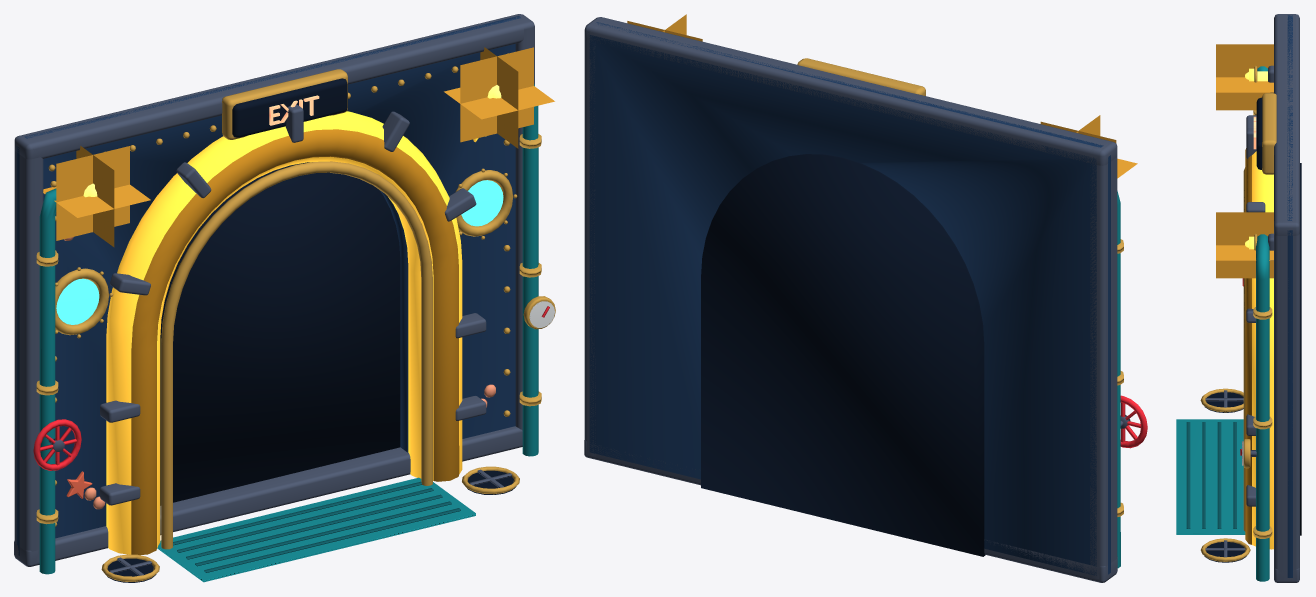
File: aqua_portal_arch.glb
3 views of the same model, side by side, from view 1: azimuth 30°, elevation 25°; view 2: azimuth 150°, elevation 25°; view 3: azimuth 270°, elevation 25° (orthographic). The views are drawn at different scales.
Parts seen in each view (by area): view 1: PortalArch; view 2: PortalArch; view 3: PortalArch.
Boxes of the visible parts, box(x1,y1,x2,y2) form: PortalArch: box(14, 14, 555, 582); PortalArch: box(584, 14, 1147, 582); PortalArch: box(1176, 14, 1301, 582).
Size of the model in its own units: 5.95 by 4.62 by 1.45.
